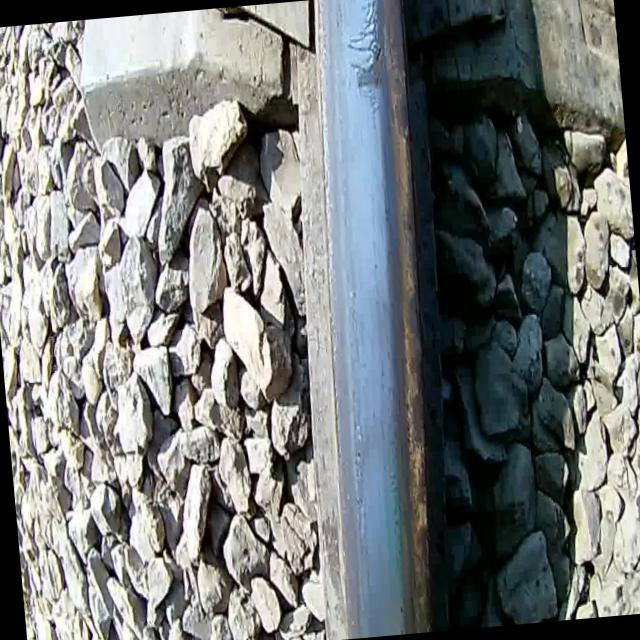Squats: (339, 0, 464, 635)
